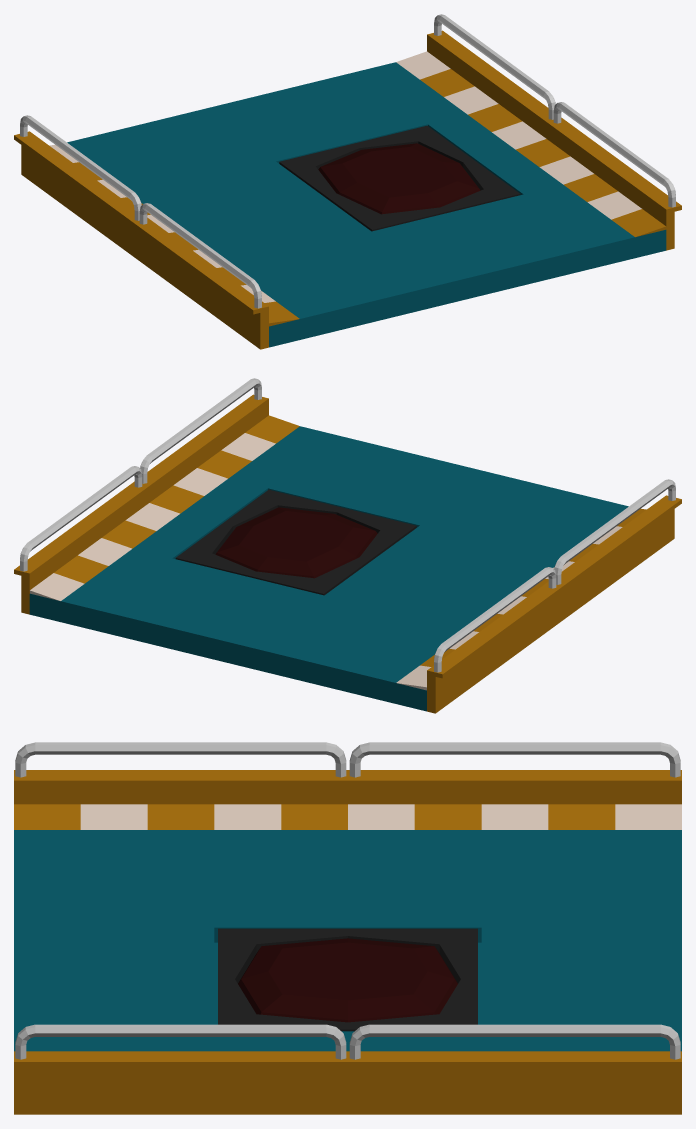
File: button.FBX
The picture shows the model from 3 angles, top to bottom: view 1: azimuth 30°, elevation 25°; view 2: azimuth 150°, elevation 25°; view 3: azimuth 270°, elevation 25°; orthographic projection. The views are drawn at different scales.
Visible parts, largest first — view 1: button, wall_r, wall_l, curbs_l, knob, buttonHousing, curbs_r; view 2: button, wall_r, wall_l, curbs_l, knob, buttonHousing, curbs_r; view 3: button, wall_l, wall_r, curbs_r, knob, buttonHousing.
Part boxes in pixels (bbox=[...]): button: bbox=[67, 62, 666, 347]; wall_r: bbox=[14, 115, 268, 349]; wall_l: bbox=[427, 14, 681, 250]; curbs_l: bbox=[396, 51, 666, 237]; knob: bbox=[318, 143, 480, 214]; buttonHousing: bbox=[279, 126, 520, 231]; curbs_r: bbox=[49, 144, 299, 326]; button: bbox=[29, 426, 628, 711]; wall_r: bbox=[427, 479, 681, 713]; wall_l: bbox=[14, 378, 268, 614]; curbs_l: bbox=[29, 415, 299, 600]; knob: bbox=[215, 507, 377, 578]; buttonHousing: bbox=[175, 489, 416, 595]; curbs_r: bbox=[396, 508, 646, 690]; button: bbox=[14, 830, 681, 1051]; wall_l: bbox=[14, 1024, 681, 1114]; wall_r: bbox=[14, 742, 681, 804]; curbs_r: bbox=[14, 804, 681, 829]; knob: bbox=[238, 938, 457, 1022]; buttonHousing: bbox=[218, 928, 477, 1031].
Size of what is drawn, in the model's own units: 207 by 200 by 29.31.
